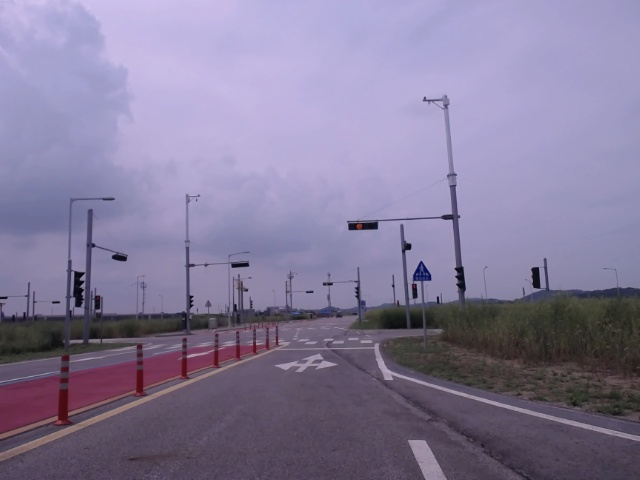orange_4: (347, 221, 380, 231), (322, 281, 334, 288)
